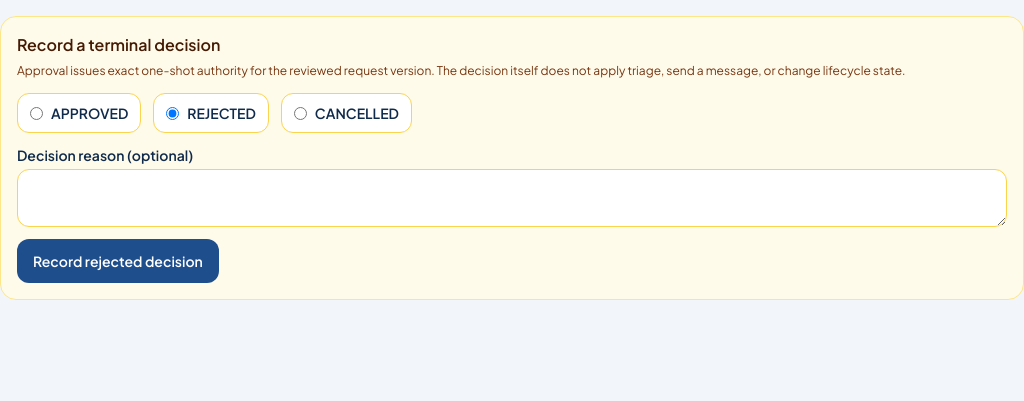
Scenario: ApprovalDecisionForm › turns an approved triage proposal into exact one-shot authority without executing it
Expected: the text "issues exact one-shot authority" is shown, [17,63,906,78]
Click the radio button labelled "APPROVED": (36, 113) [30,106,43,120]
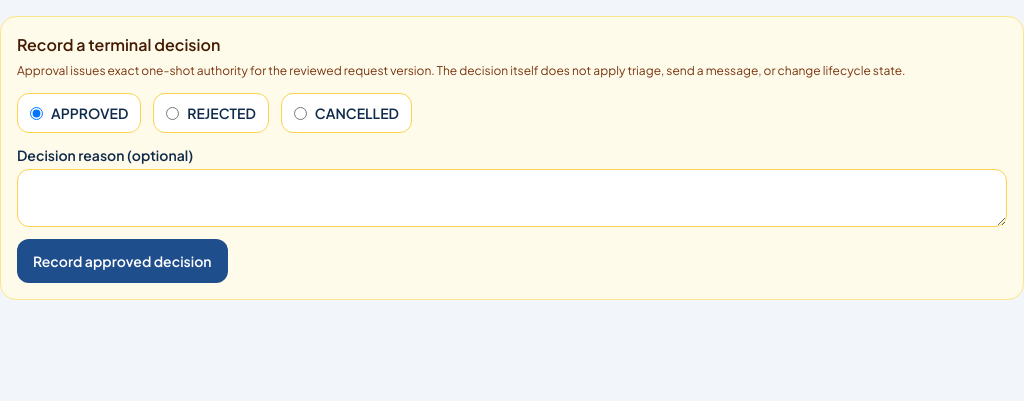
Click the button "Record approved decision": (122, 261) [17,239,228,283]
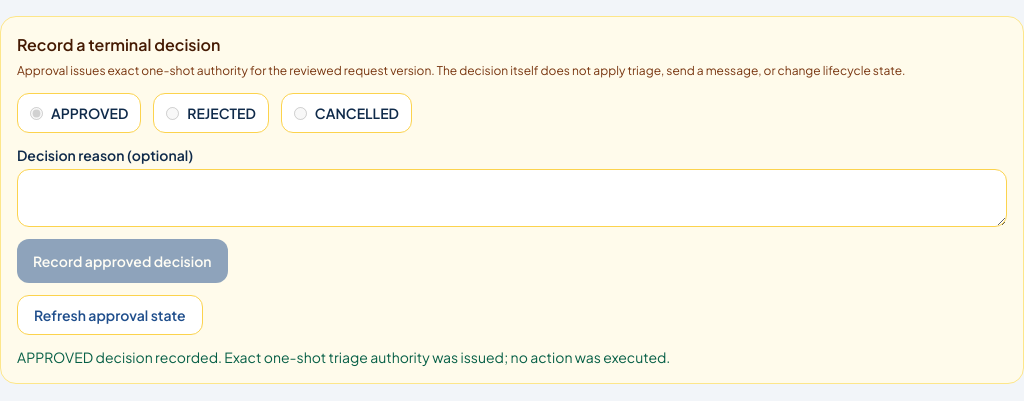
Now the text "Exact one-shot triage authority was issued" is shown, box [17,348,670,366]
